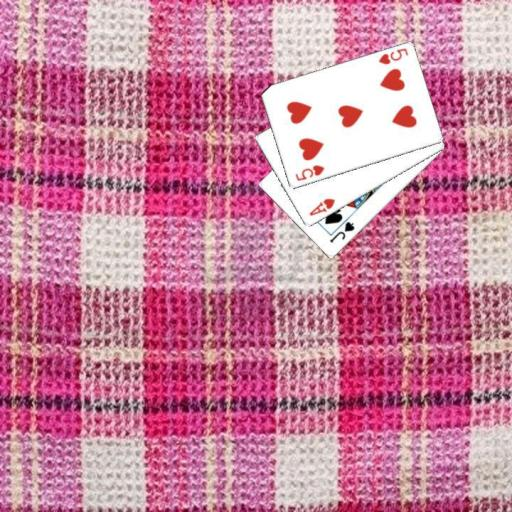5H: (292, 162, 326, 183), (376, 45, 410, 66)
AH: (306, 196, 336, 218)
JS: (327, 218, 357, 245)
